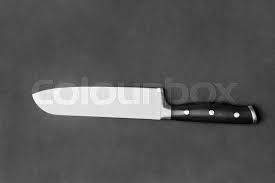Knife: (31, 77, 259, 124)
